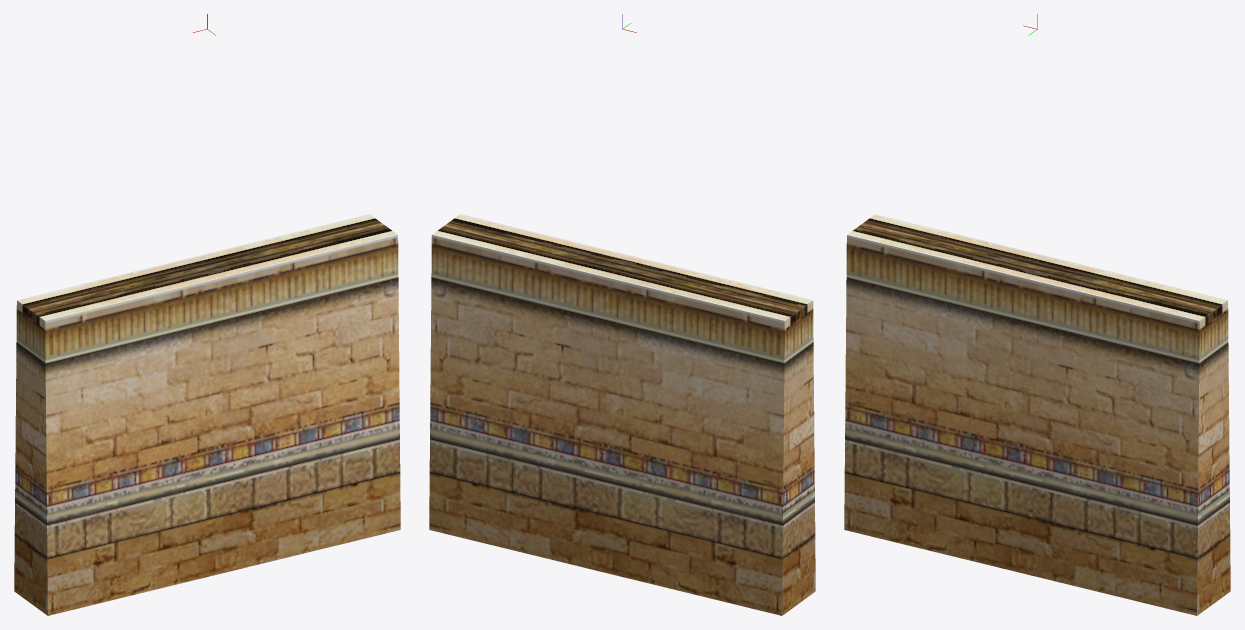
Rendered from egyptian-wall-medium.glb.
3 views of the same model, side by side, from view 1: azimuth 30°, elevation 25°; view 2: azimuth 150°, elevation 25°; view 3: azimuth 330°, elevation 25° (orthographic).
Visible parts, largest first — view 1: building e wallmedium age2Model; view 2: building e wallmedium age2Model; view 3: building e wallmedium age2Model.
Boxes of the visible parts, x1=… form: building e wallmedium age2Model: x1=14, y1=214, x2=400, y2=615; building e wallmedium age2Model: x1=429, y1=214, x2=815, y2=615; building e wallmedium age2Model: x1=844, y1=214, x2=1230, y2=615.
Bounding box in the file's own units: 6.03 × 8.93 × 0.9961.
Materials: 3 (2 with a texture image).
